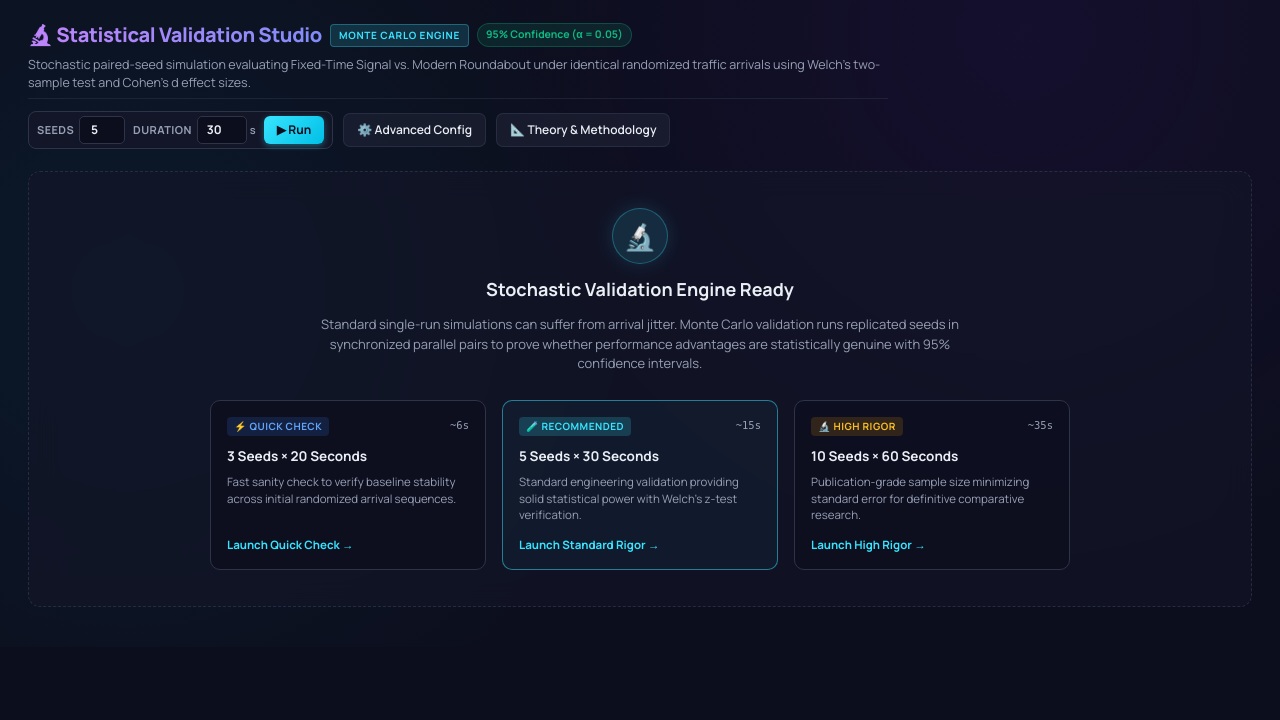
Scenario: ValidationDashboard › shows Cohen's d values in metric cards
Click the button titled "Execute Monte Carlo validation" at (294, 130), box [264,116,324,144]
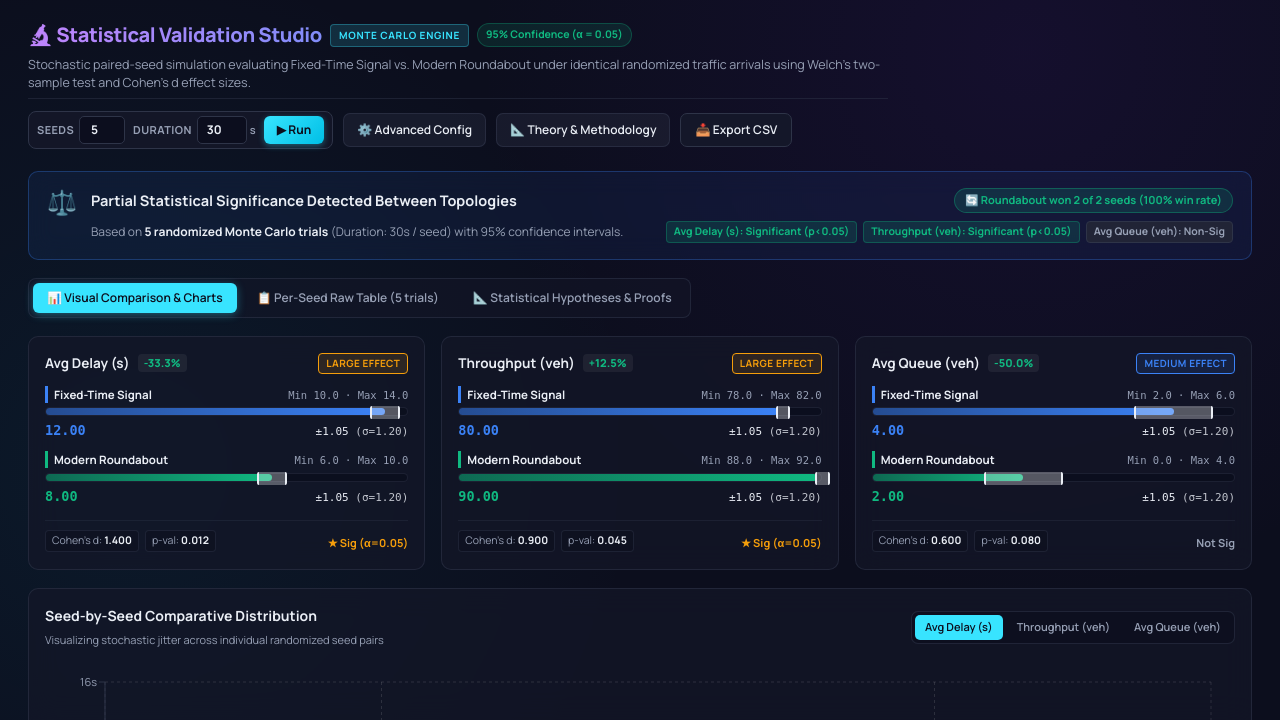
Expected: the text "1.400" is shown, [104,533,132,547]
